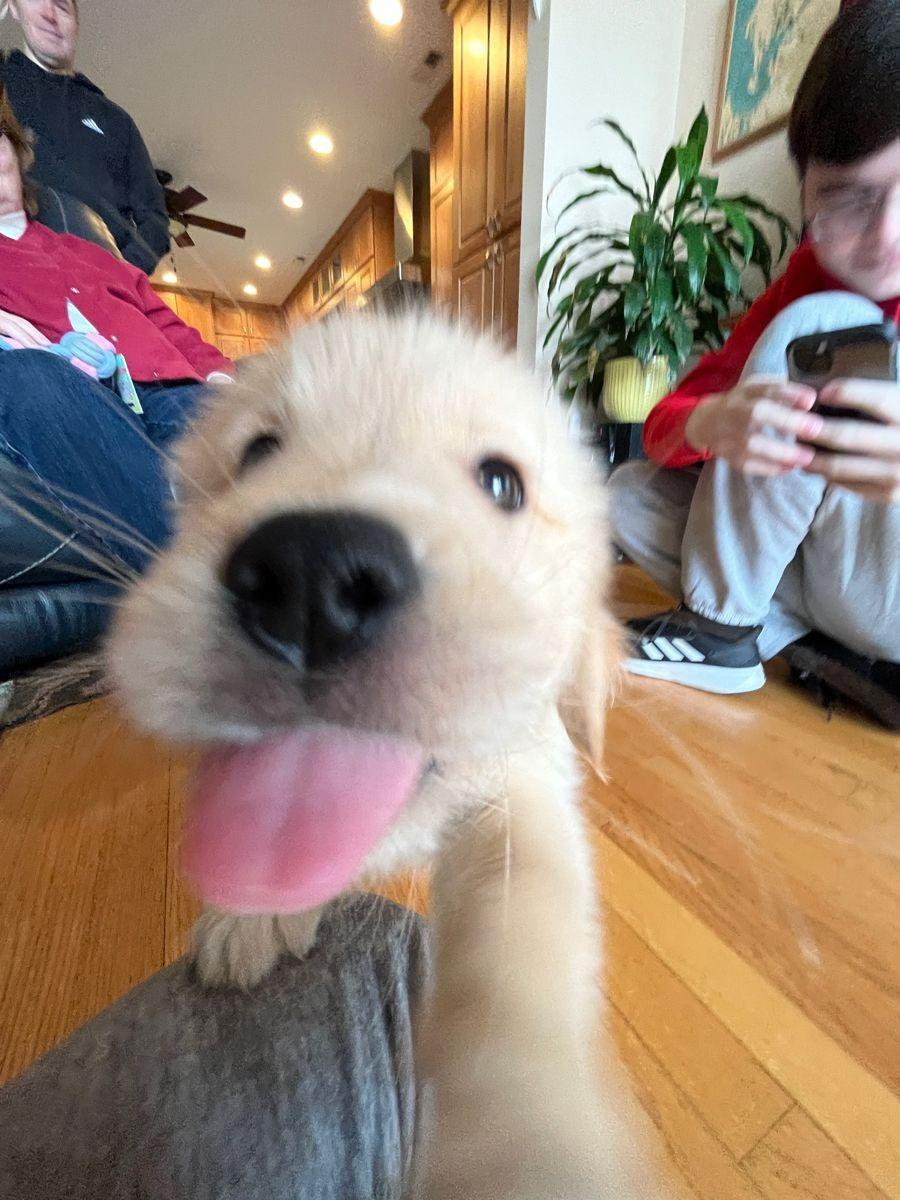non-dog: (603, 0, 900, 724), (0, 92, 243, 663), (1, 0, 180, 278)
puppy-dog: (101, 302, 656, 1200)
